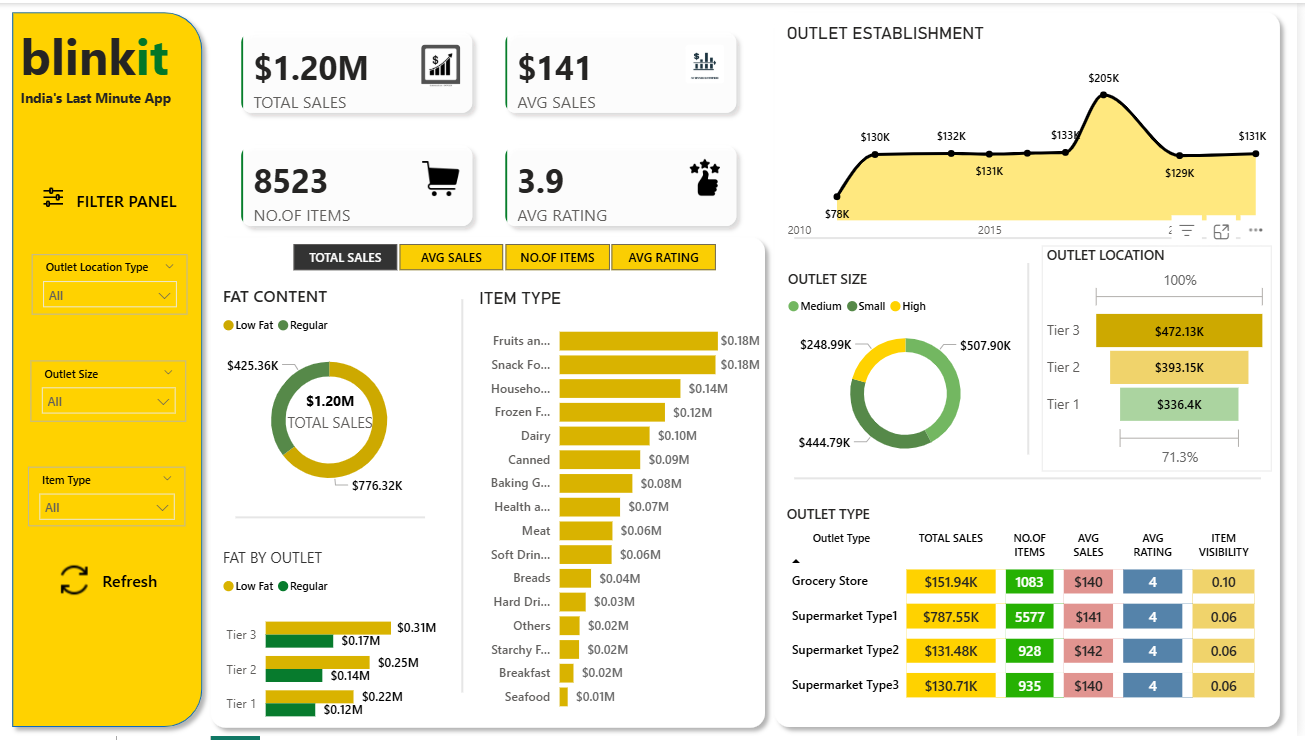

The dashboard page shown, as its layout file describes it:
{"tool":"powerbi","page":{"name":"Page 1","canvas":[1280,720],"ordinal":0},"visuals":[{"type":"shape","box":[9.3,0,204.7,719.8],"z":0},{"type":"textbox","box":[22,13.7,163.3,79.6],"z":1000},{"type":"textbox","box":[22,78.2,163.3,46.7],"z":2000},{"type":"cardVisual","fields":{"Data":["BlinkIT Grocery Data.TOTAL SALES","BlinkIT Grocery Data.AVG SALES","BlinkIT Grocery Data.NO.OF ITEMS","BlinkIT Grocery Data.AVG RATING"]},"box":[214.4,0,544.4,248.4],"z":3000},{"type":"shape","box":[205.3,220.9,562,499.5],"z":4000},{"type":"donutChart","title":"FAT CONTENT","fields":{"Y":["BlinkIT Grocery Data.TOTAL SALES"],"Category":["BlinkIT Grocery Data.Item Fat Content"]},"box":[220.9,275.6,218.6,217.4],"z":5000},{"type":"slicer","fields":{"Values":["Metrics.Metrics"]},"box":[269,229.3,464.7,39.6],"z":6000},{"type":"cardVisual","fields":{"Data":["BlinkIT Grocery Data.TOTAL SALES"]},"box":[252.3,360.5,157,80.2],"z":7000},{"type":"clusteredBarChart","title":"FAT BY OUTLET","fields":{"Y":["BlinkIT Grocery Data.TOTAL SALES"],"Category":["BlinkIT Grocery Data.Outlet Location Type"],"Series":["BlinkIT Grocery Data.Item Fat Content"]},"box":[220.9,533.7,219.8,186],"z":8000},{"type":"shape","box":[238.4,493,186,23.3],"z":9000},{"type":"shape","box":[447.7,290.7,25.6,386],"z":10000},{"type":"barChart","title":"ITEM TYPE","fields":{"Y":["BlinkIT Grocery Data.TOTAL SALES"],"Category":["BlinkIT Grocery Data.Item Type"]},"box":[473,280.2,285.8,425.3],"z":11000},{"type":"shape","box":[758.1,0,514,719.8],"z":12000},{"type":"lineChart","title":"OUTLET ESTABLISHMENT","fields":{"Y":["Sum(BlinkIT Grocery Data.Sales)"],"Category":["BlinkIT Grocery Data.Outlet Establishment Year"]},"box":[774.4,19.8,482.6,220.9],"z":13000},{"type":"shape","box":[786,220.9,458.1,19.8],"z":14000},{"type":"donutChart","title":"OUTLET SIZE","fields":{"Y":["BlinkIT Grocery Data.TOTAL SALES"],"Category":["BlinkIT Grocery Data.Outlet Size"]},"box":[775.6,261.6,240.7,198.8],"z":15000},{"type":"shape","box":[1009.3,255.8,12.8,188.4],"z":16000},{"type":"funnel","title":"OUTLET LOCATION","fields":{"Y":["Sum(BlinkIT Grocery Data.Sales)"],"Category":["BlinkIT Grocery Data.Outlet Location Type"]},"box":[1029.1,238.4,226.7,222.1],"z":17000},{"type":"shape","box":[786,461.6,458.1,10.5],"z":18000},{"type":"pivotTable","title":"OUTLET TYPE","fields":{"Values":["BlinkIT Grocery Data.TOTAL SALES","BlinkIT Grocery Data.NO.OF ITEMS","BlinkIT Grocery Data.AVG SALES","BlinkIT Grocery Data.AVG RATING","Avg(BlinkIT Grocery Data.Item Visibility)"],"Rows":["BlinkIT Grocery Data.Outlet Type"]},"box":[774.4,491.9,482.6,212.8],"z":19000},{"type":"slicer","fields":{"Values":["BlinkIT Grocery Data.Outlet Location Type"]},"box":[37.4,246.1,153.1,59],"z":20000},{"type":"slicer","fields":{"Values":["BlinkIT Grocery Data.Item Type"]},"box":[34.9,454.7,154.7,58.1],"z":21000},{"type":"slicer","fields":{"Values":["BlinkIT Grocery Data.Outlet Size"]},"box":[36.3,350.5,153.1,60.1],"z":22000},{"type":"textbox","box":[31.4,177.9,153.5,43],"z":23000},{"type":"image","box":[34.9,177.9,48.8,25.6],"z":23001},{"type":"actionButton","title":"Refresh","box":[34.9,533.7,153.5,65.1],"z":23002}]}

Visuals, with their boxes in screenshot pixels (x1, y1, x2, y2), scaled from the page's 1280x720 canvas onto the 1305x740 screenshot:
shape: (left=9, top=0, right=218, bottom=739)
textbox: (left=22, top=14, right=189, bottom=96)
textbox: (left=22, top=80, right=189, bottom=128)
cardVisual - BlinkIT Grocery Data.TOTAL SALES x BlinkIT Grocery Data.AVG SALES: (left=219, top=0, right=774, bottom=255)
shape: (left=209, top=227, right=782, bottom=739)
"FAT CONTENT" donutChart: (left=225, top=283, right=448, bottom=507)
slicer - Metrics.Metrics: (left=274, top=236, right=748, bottom=276)
cardVisual - BlinkIT Grocery Data.TOTAL SALES: (left=257, top=371, right=417, bottom=453)
"FAT BY OUTLET" clusteredBarChart: (left=225, top=549, right=449, bottom=739)
shape: (left=243, top=507, right=433, bottom=531)
shape: (left=456, top=299, right=483, bottom=695)
"ITEM TYPE" barChart: (left=482, top=288, right=774, bottom=725)
shape: (left=773, top=0, right=1297, bottom=739)
"OUTLET ESTABLISHMENT" lineChart: (left=790, top=20, right=1282, bottom=247)
shape: (left=801, top=227, right=1268, bottom=247)
"OUTLET SIZE" donutChart: (left=791, top=269, right=1036, bottom=473)
shape: (left=1029, top=263, right=1042, bottom=457)
"OUTLET LOCATION" funnel: (left=1049, top=245, right=1280, bottom=473)
shape: (left=801, top=474, right=1268, bottom=485)
"OUTLET TYPE" pivotTable: (left=790, top=506, right=1282, bottom=724)
slicer - BlinkIT Grocery Data.Outlet Location Type: (left=38, top=253, right=194, bottom=314)
slicer - BlinkIT Grocery Data.Item Type: (left=36, top=467, right=193, bottom=527)
slicer - BlinkIT Grocery Data.Outlet Size: (left=37, top=360, right=193, bottom=422)
textbox: (left=32, top=183, right=189, bottom=227)
image: (left=36, top=183, right=85, bottom=209)
"Refresh" actionButton: (left=36, top=549, right=192, bottom=615)
